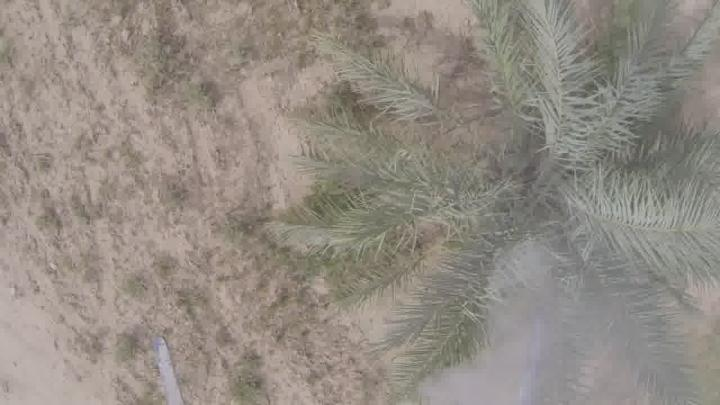Date-Palm-Crown: (384, 50, 672, 322)
